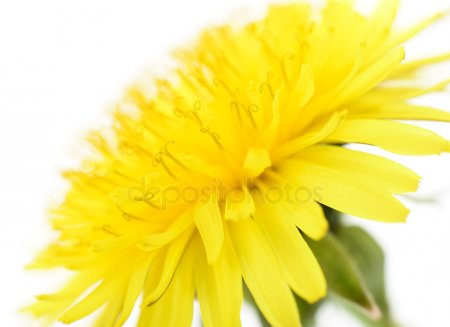dandelion: (16, 1, 450, 323)
